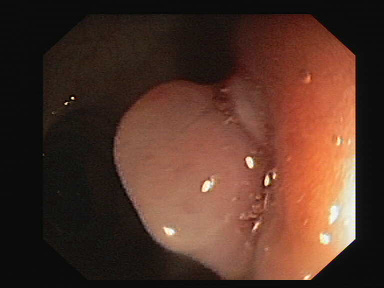polyp: (97, 60, 284, 270)
